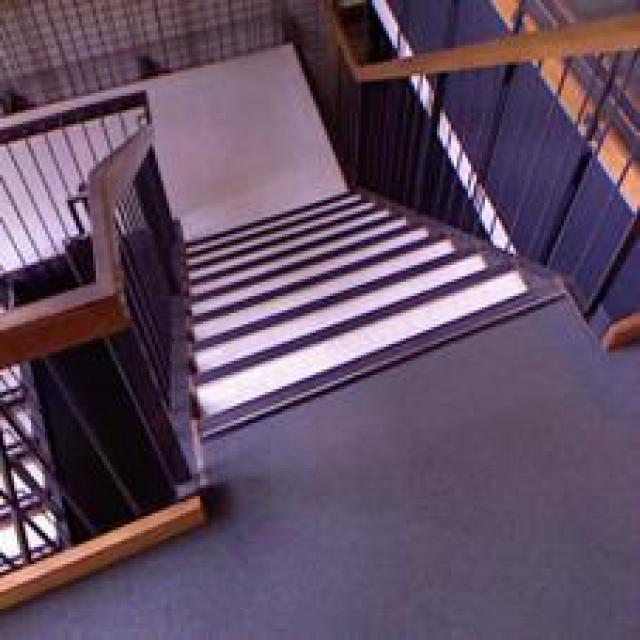downstair: (176, 275, 559, 444)
